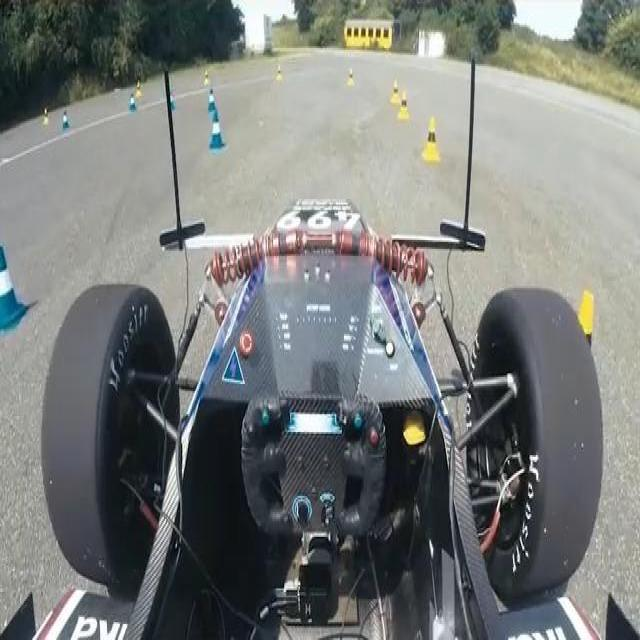blue_cone: (0, 245, 29, 334), (208, 110, 226, 152), (208, 87, 218, 113)
yellow_cone: (423, 116, 441, 162), (397, 92, 411, 120), (391, 80, 402, 103)
